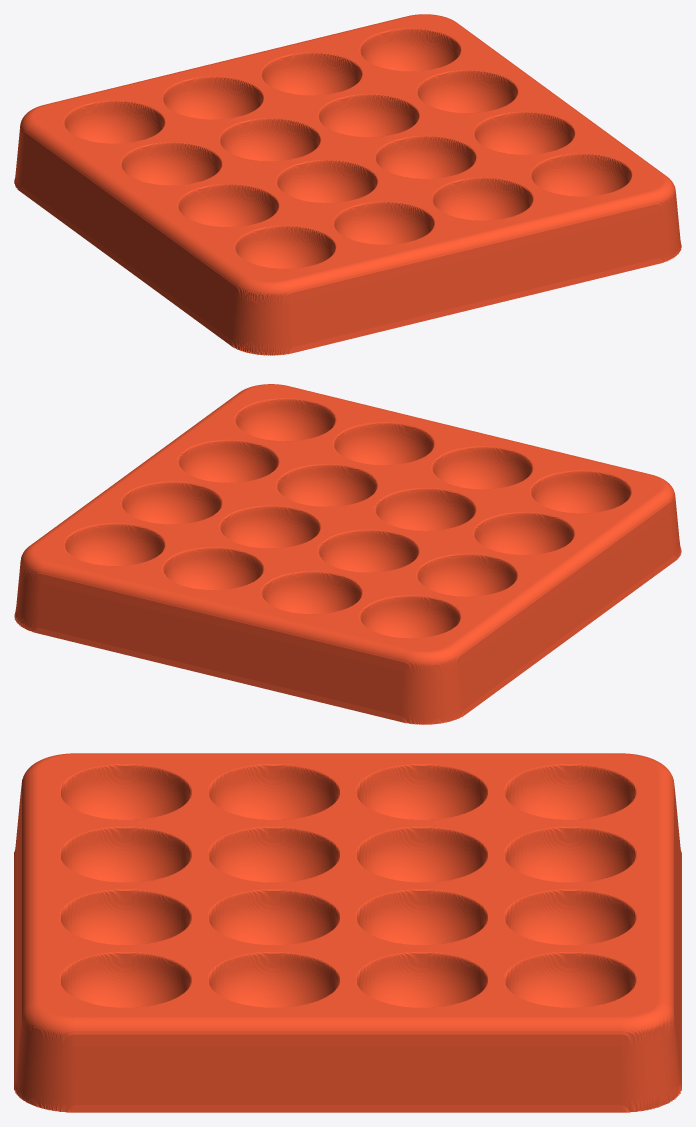
File: mold.glb
3 views of the same model, one above another, from view 1: azimuth 30°, elevation 25°; view 2: azimuth 150°, elevation 25°; view 3: azimuth 270°, elevation 25° (orthographic). The views are drawn at different scales.
Parts seen in each view (by area): view 1: geometry_0; view 2: geometry_0; view 3: geometry_0.
Boxes of the visible parts, x1,y1,x2,y2 form: geometry_0: (14,14,681,355); geometry_0: (14,384,681,724); geometry_0: (14,753,681,1112).
Size of the model in its own units: 0.0992 by 0.014 by 0.0992.
